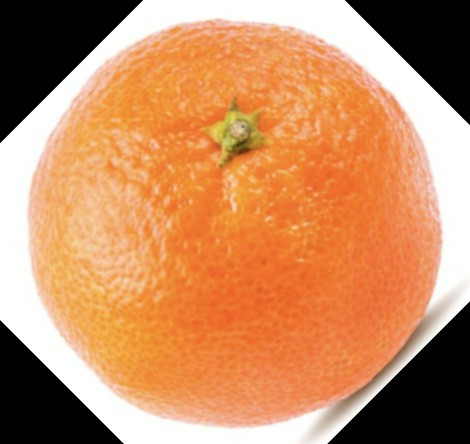fresh_orange: (30, 21, 442, 422)
